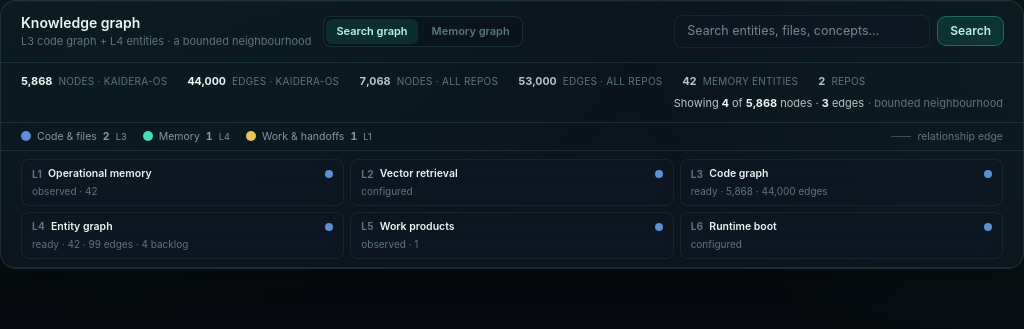
Test: GraphView — load + render › can switch to the project memory graph
Click the button "Memory graph" at x=471, y=31, box [422,19,520,44]
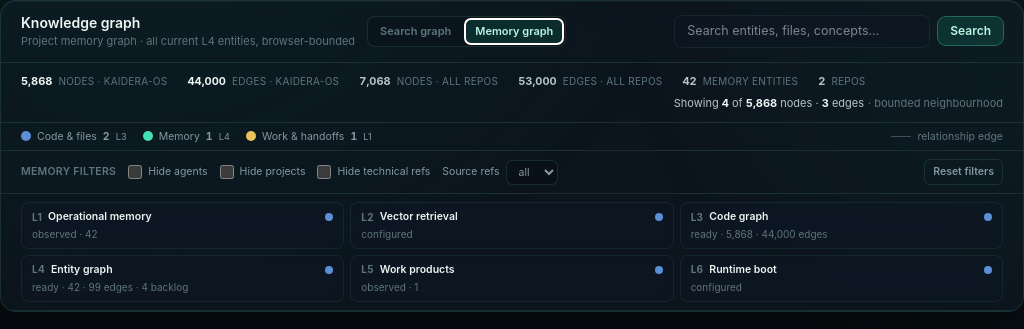
Expected: the text "Project memory graph" is shown, [21,34,355,48]
Expected: the element with test id "graph-memory-filters" is shown, [1,151,1023,194]
